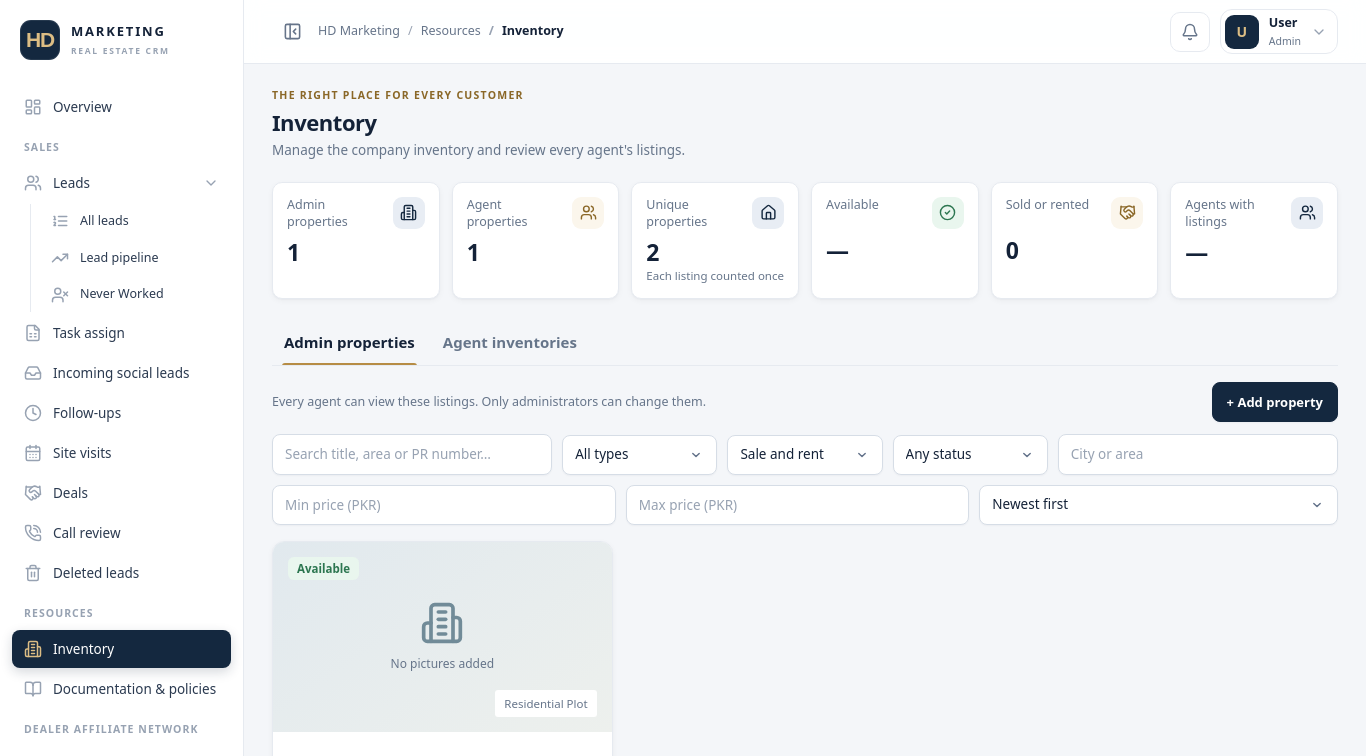
it: View on a plot in the inventory › opens for an admin at /inventory?tab=company
The width and height of the screenshot is (1366, 756).
Click the button with aria-label "Open Residential Plot in DHA details".
click(442, 637)  # box x1=273 y1=542 x2=612 y2=732
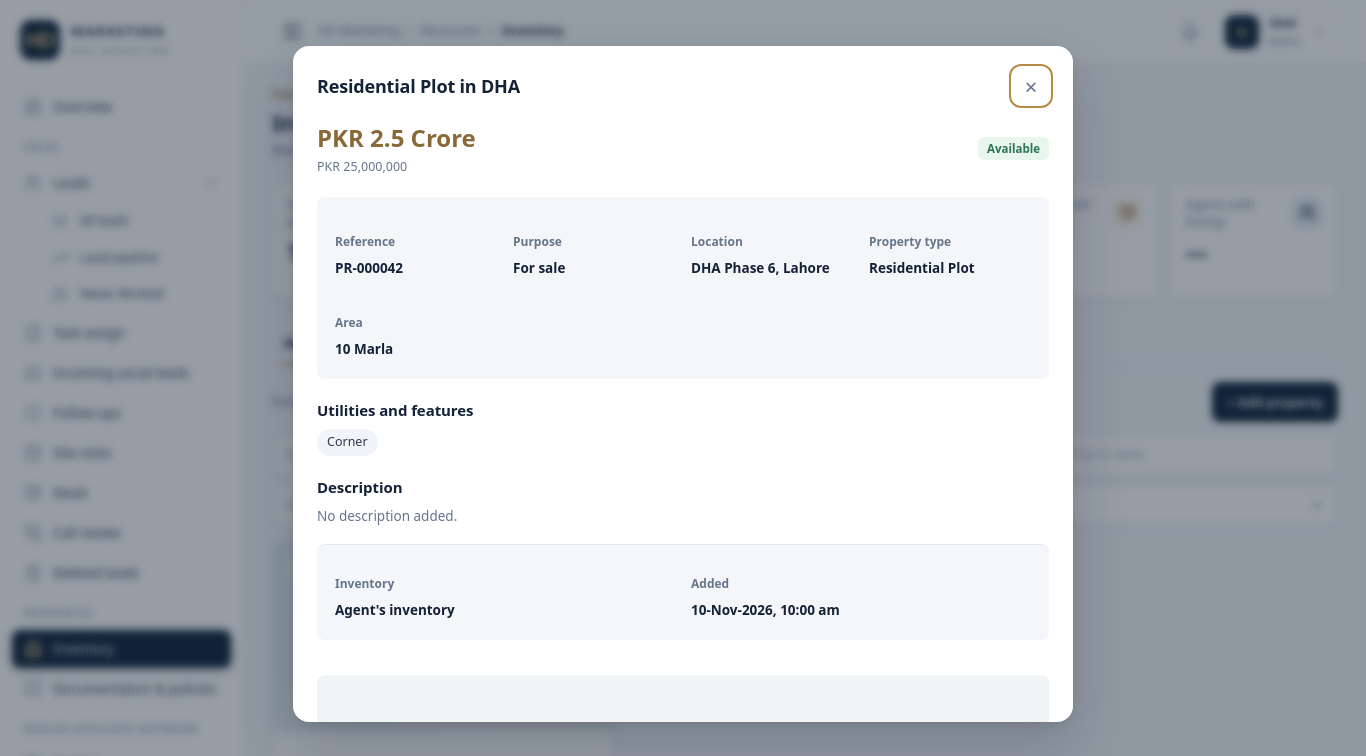
Expected: the element named "Property details" shows "Residential Plot", x1=869 y1=259 x2=975 y2=277
